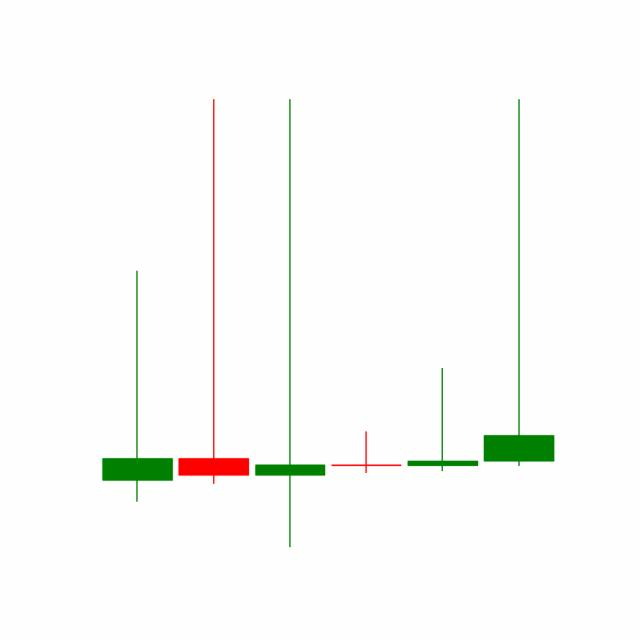Spinning Top: (403, 366, 481, 472)
